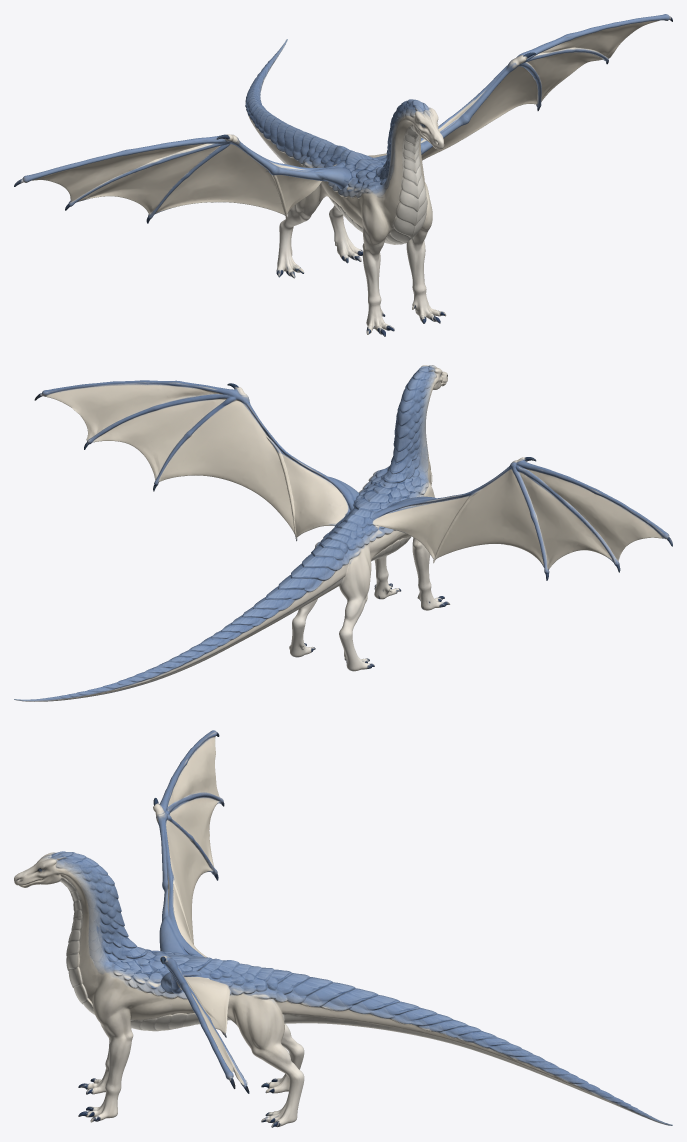
File: white-dragon-textured.glb
3 views of the same model, one above another, from view 1: azimuth 30°, elevation 25°; view 2: azimuth 150°, elevation 25°; view 3: azimuth 270°, elevation 25° (orthographic). The views are drawn at different scales.
Bounding box in the file's own units: 1.9 × 0.6392 × 1.51.
Materials: 1 (1 with a texture image).
